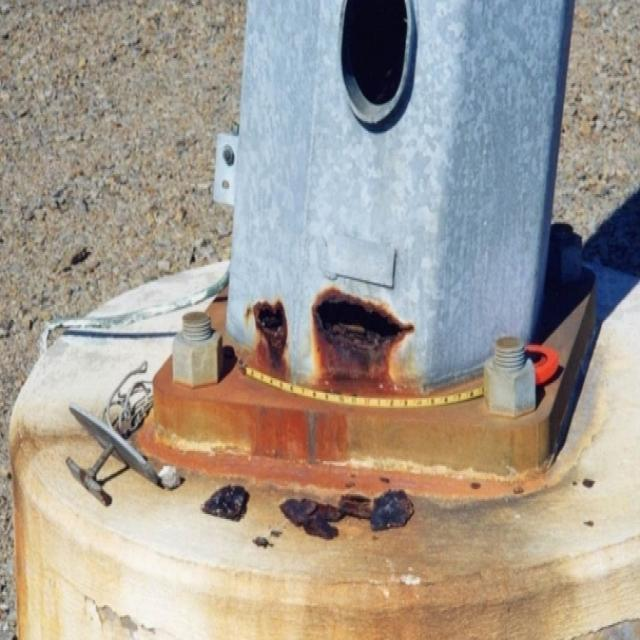damaged_tower: (201, 418, 426, 548), (237, 273, 425, 406)
